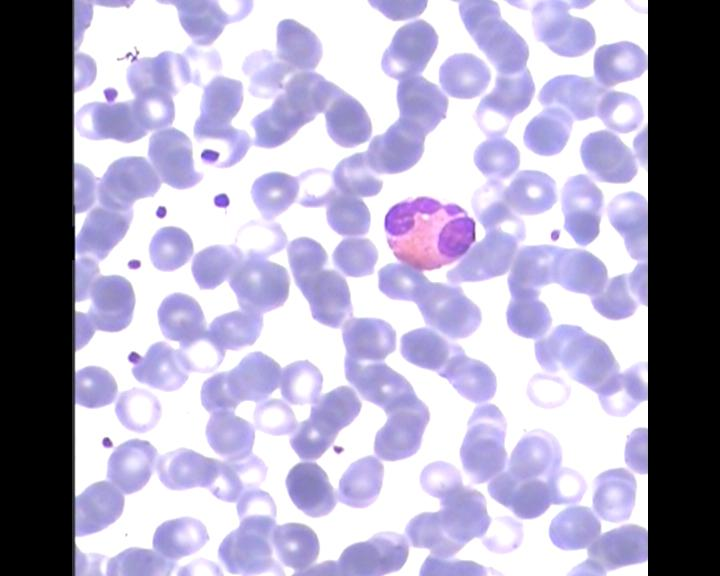eosi: (379, 191, 484, 274)
